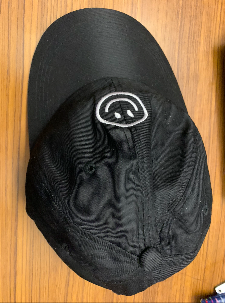Nonfood: (32, 18, 214, 292)
